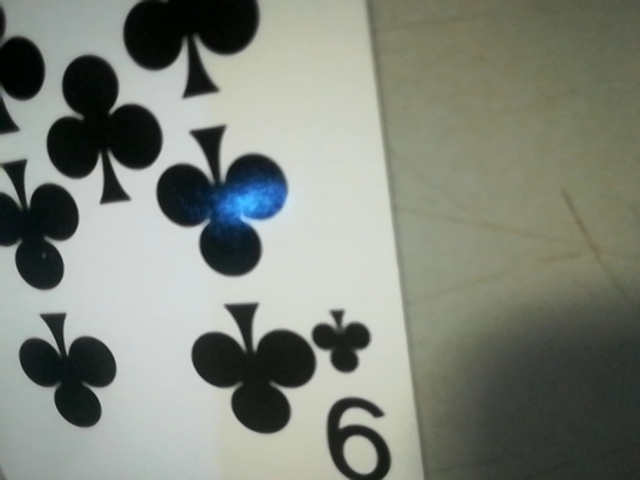mh 9: (300, 294, 413, 480)
